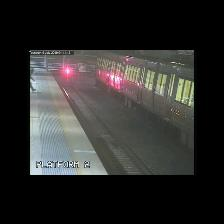person: (30, 69, 36, 91)
